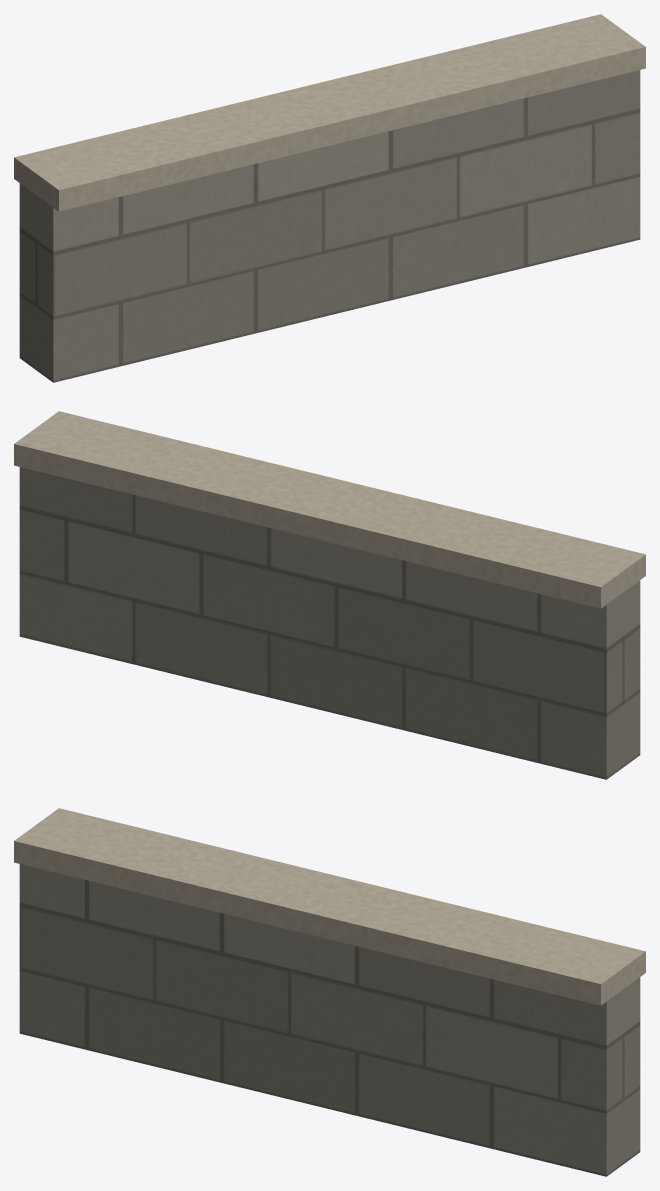
File: Stone_Wall.fbx
3 views of the same model, one above another, from view 1: azimuth 30°, elevation 25°; view 2: azimuth 150°, elevation 25°; view 3: azimuth 330°, elevation 25° (orthographic).
Visible parts, largest first — view 1: Stone_Wall.001; view 2: Stone_Wall.001; view 3: Stone_Wall.001.
Boxes of the visible parts, x1,y1,x2,y2 form: Stone_Wall.001: (14, 14, 645, 382); Stone_Wall.001: (14, 411, 645, 779); Stone_Wall.001: (14, 808, 645, 1176).
Bounding box in the file's own units: 4 × 1.28 × 0.53.
